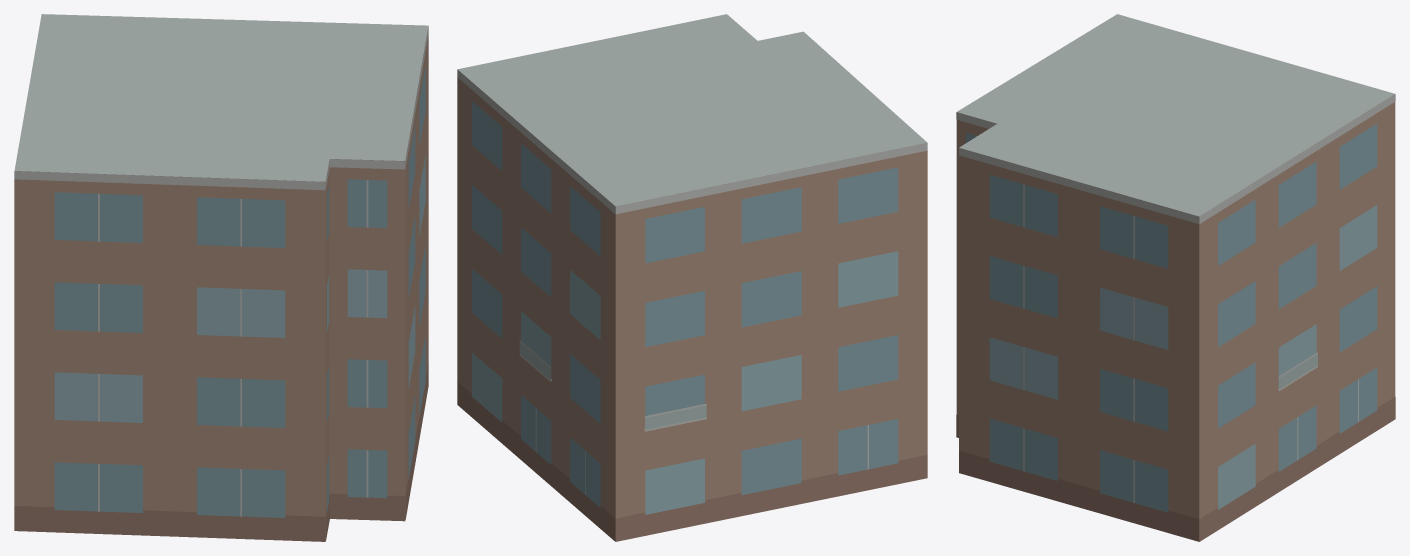
The model's file is survey-upis-32823501.glb.
3 renders of one model, left to right at view 1: azimuth 30°, elevation 25°; view 2: azimuth 150°, elevation 25°; view 3: azimuth 270°, elevation 25°, orthographic. The views are drawn at different scales.
Visible parts, largest first — view 1: survey-upis-32823501.tmp; view 2: survey-upis-32823501.tmp; view 3: survey-upis-32823501.tmp.
Boxes of the visible parts, <box> form: survey-upis-32823501.tmp: <box>14,14,428,541</box>; survey-upis-32823501.tmp: <box>457,14,927,541</box>; survey-upis-32823501.tmp: <box>956,14,1395,541</box>.
Bounding box in the file's own units: 13.9 × 10.4 × 12.73.
